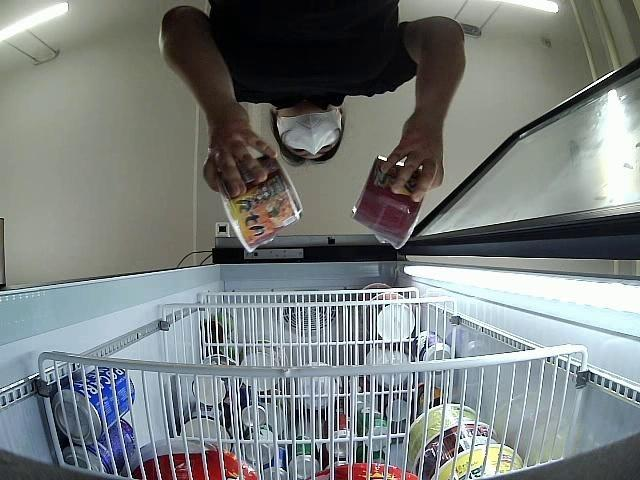05_nuguri_L: (214, 152, 302, 255), (352, 158, 427, 248)
